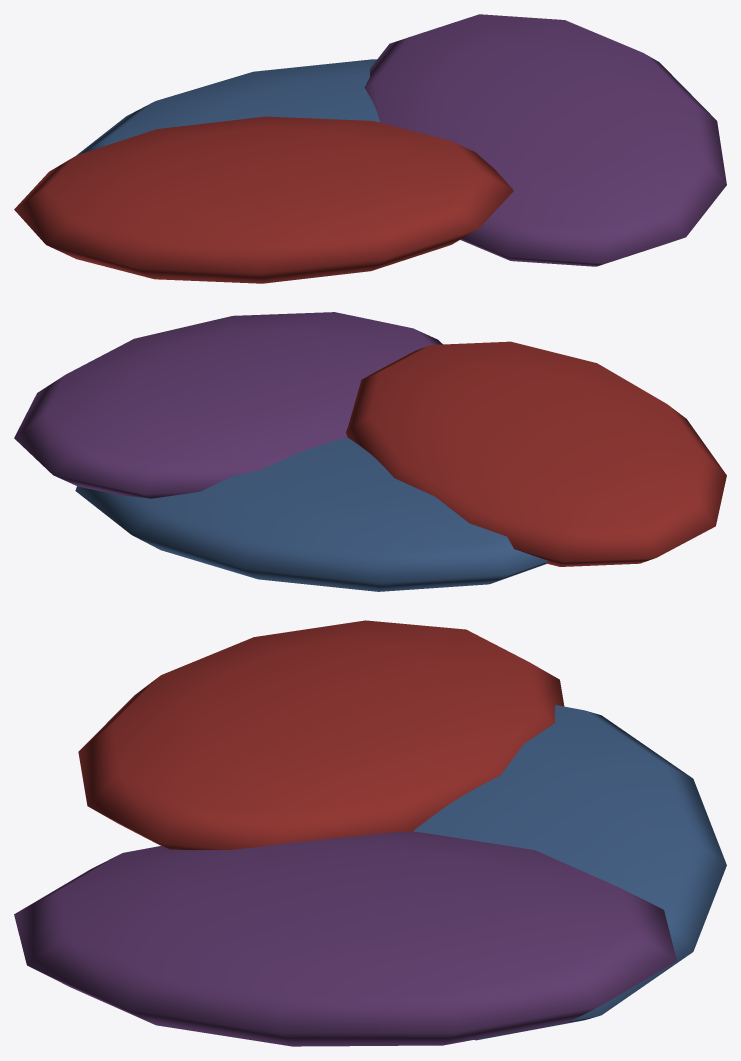
File: heap-clothes-waiting-for.glb
3 views of the same model, one above another, from view 1: azimuth 30°, elevation 25°; view 2: azimuth 150°, elevation 25°; view 3: azimuth 270°, elevation 25° (orthographic). The views are drawn at different scales.
Size of the model in its own units: 2.18 by 0.3644 by 1.64.
